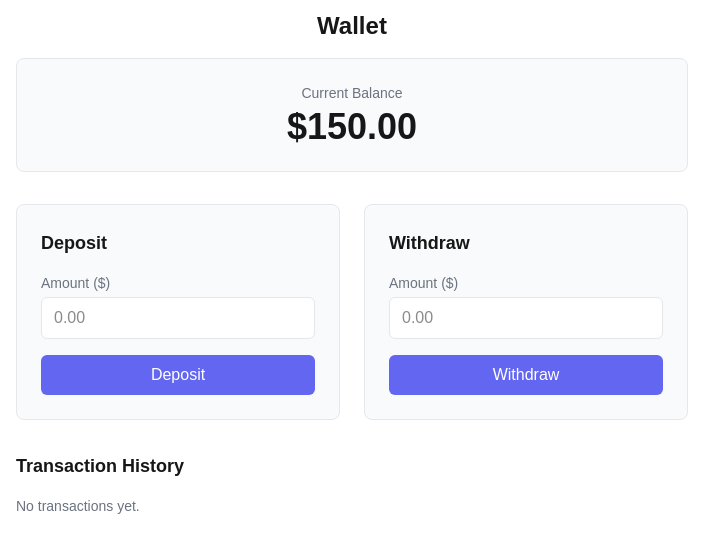
WalletPage › shows validation error for empty deposit amount
The width and height of the screenshot is (705, 559).
Click the button "Deposit". click: (178, 375)
box: [41,355,315,395]
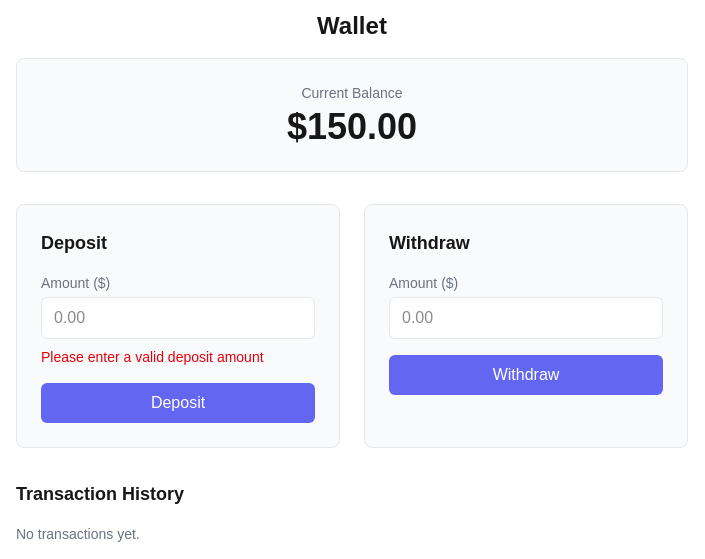
Result: the text "Please enter a valid deposit amount" is shown at [41,349,264,365]
